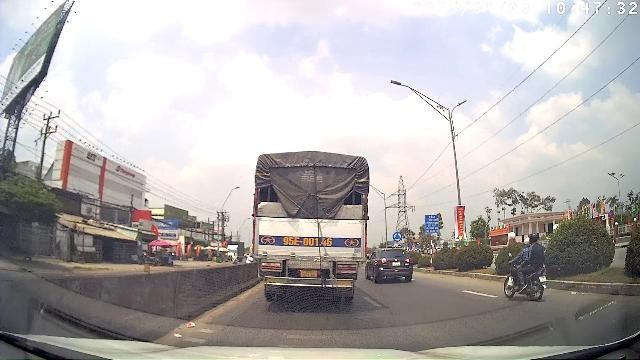303-noi-giao-nhau-chay-theo-vong-xuyen: (393, 232, 402, 241)
